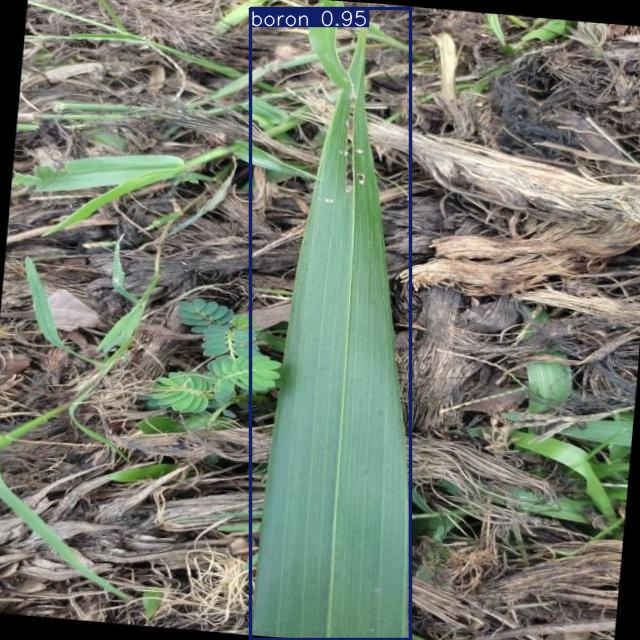nitrogen: (251, 9, 411, 640)
